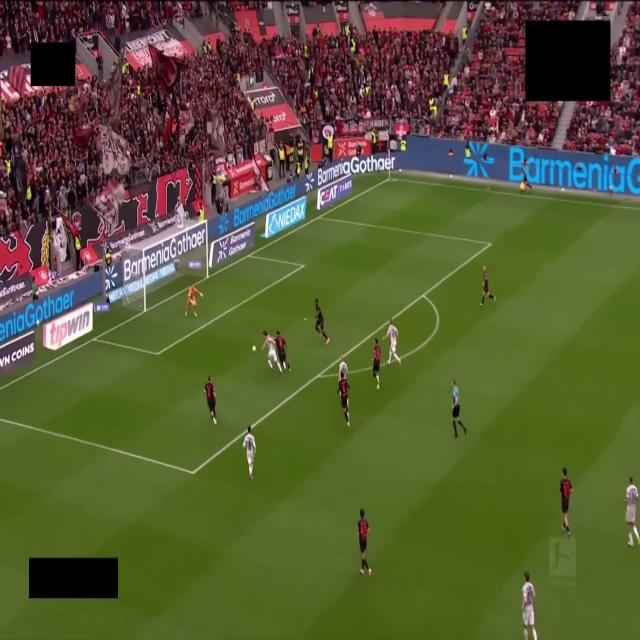ball: (252, 345, 256, 351)
player: (522, 572, 536, 639), (626, 477, 639, 546), (358, 509, 371, 575), (262, 331, 282, 373), (560, 468, 572, 536), (384, 319, 400, 365), (243, 426, 255, 479), (315, 299, 329, 343), (275, 331, 290, 371), (338, 375, 349, 426), (481, 265, 495, 305), (205, 376, 216, 424), (185, 285, 202, 316), (372, 338, 382, 389), (338, 356, 347, 380)
referee: (452, 380, 466, 438)
